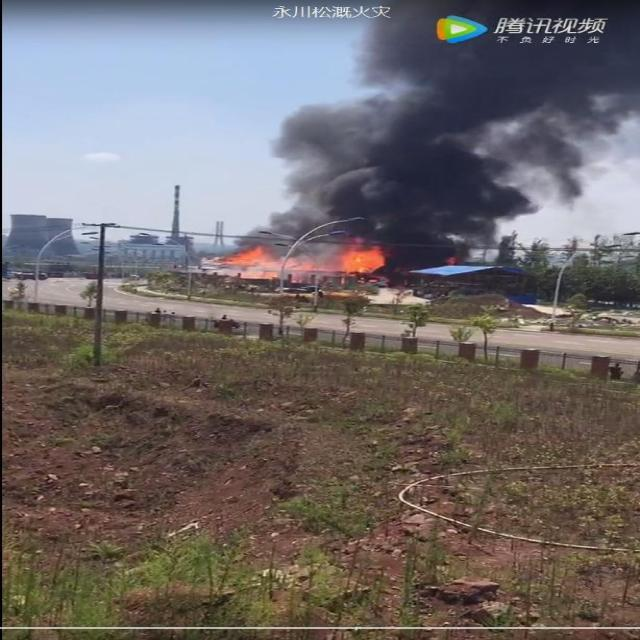fire: (215, 241, 382, 278), (334, 241, 384, 274)
smoke: (269, 104, 551, 237), (351, 18, 634, 120)
